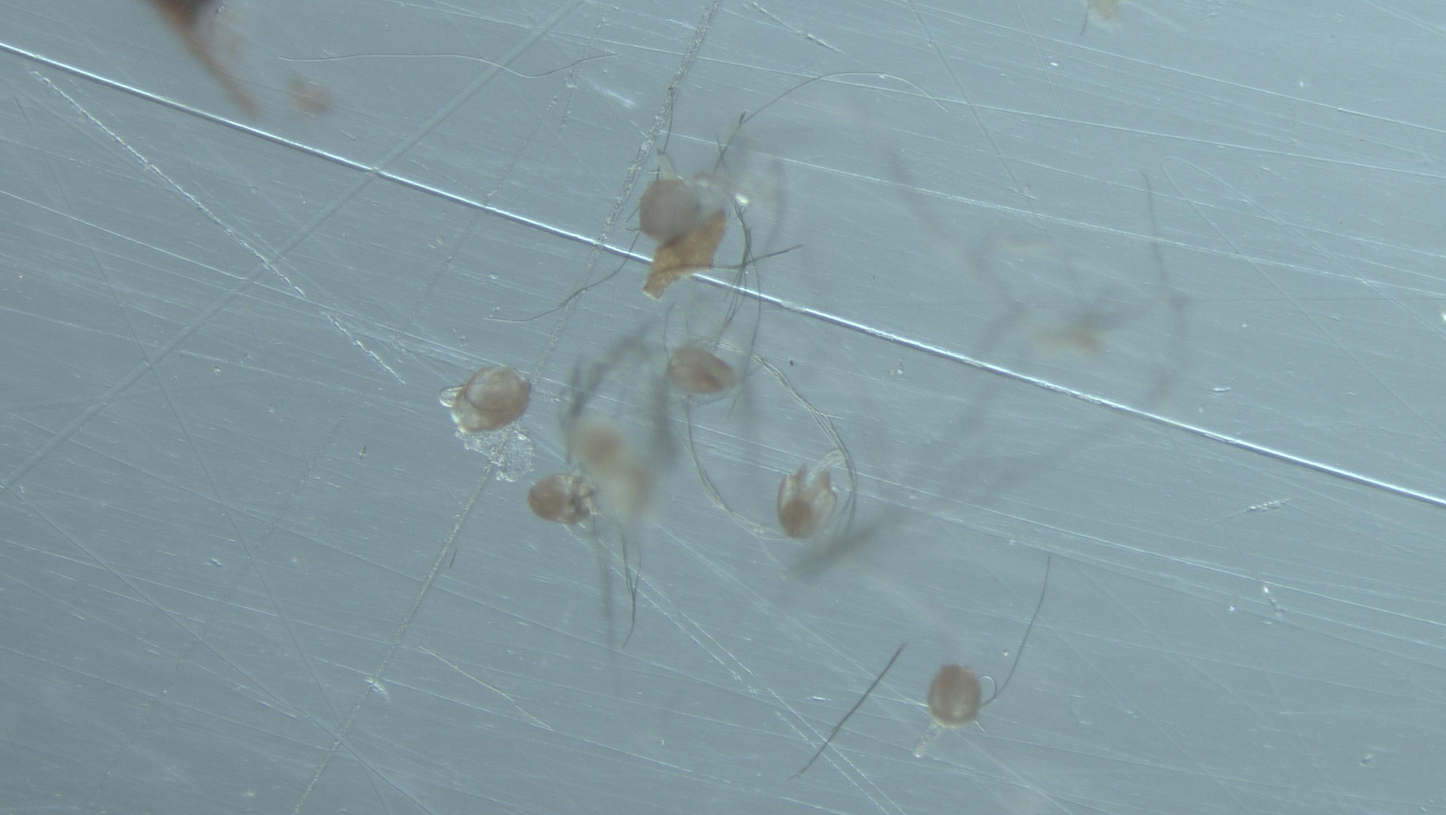live: (443, 367, 531, 435), (777, 461, 838, 539), (529, 473, 596, 525), (667, 345, 735, 396), (928, 664, 982, 727)
